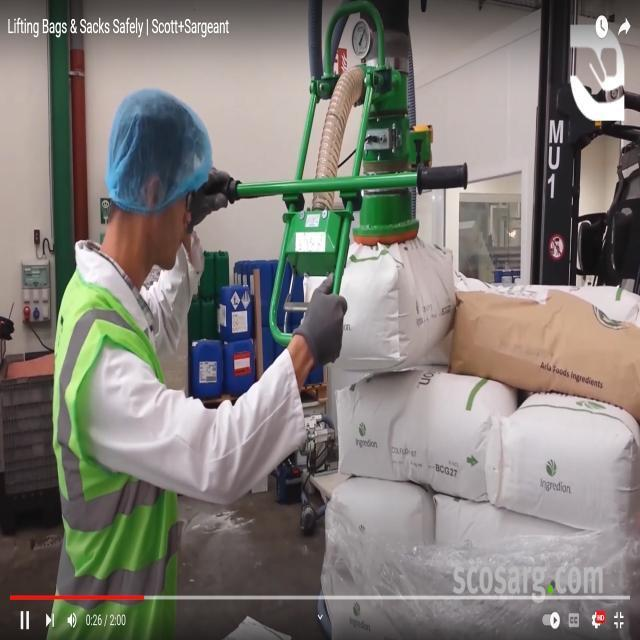gunny_bag: (337, 369, 518, 500), (486, 393, 640, 530), (338, 236, 456, 371)
